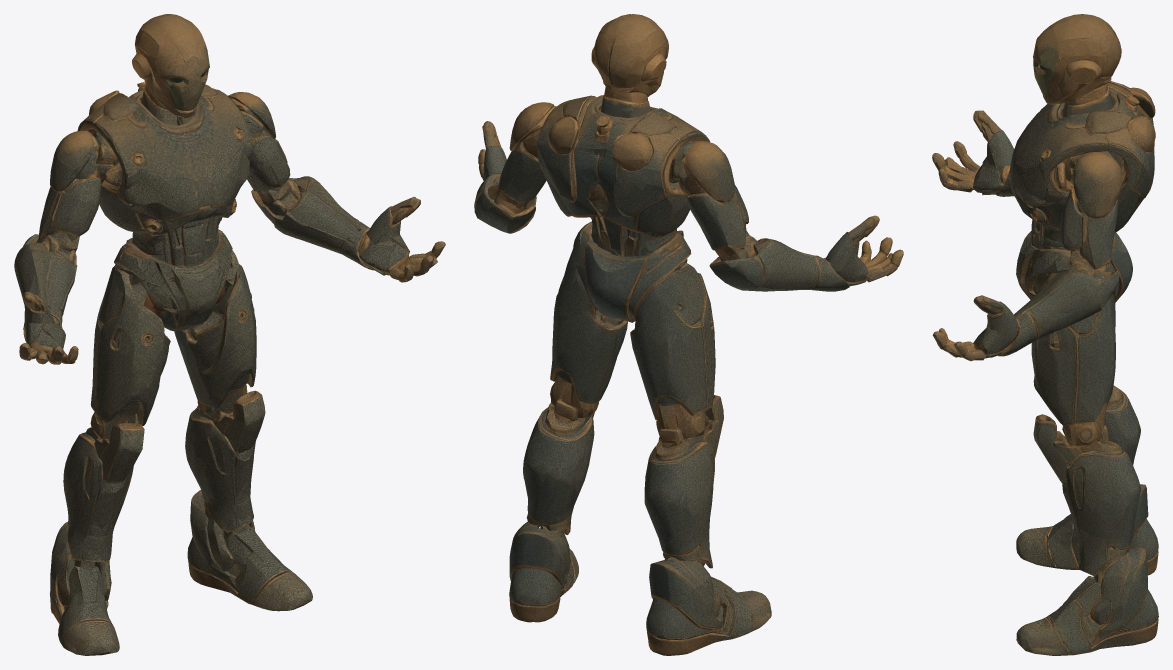
File: orchard.glb
3 renders of one model, left to right at view 1: azimuth 30°, elevation 25°; view 2: azimuth 150°, elevation 25°; view 3: azimuth 270°, elevation 25°, orthographic.
Parts seen in each view (by area): view 1: mesh_node; view 2: mesh_node; view 3: mesh_node.
Part boxes in pixels (<box>): mesh_node: <box>14,14,445,655</box>; mesh_node: <box>474,14,903,655</box>; mesh_node: <box>932,14,1158,655</box>.
Bounding box in the file's own units: 1.42 × 1.9 × 0.6684.
Materials: 1 (1 with a texture image).
